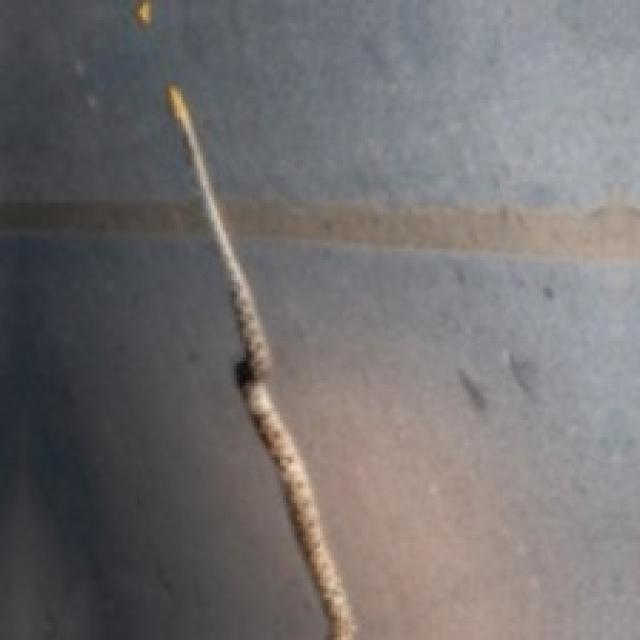reticulated python: (166, 83, 354, 637)
